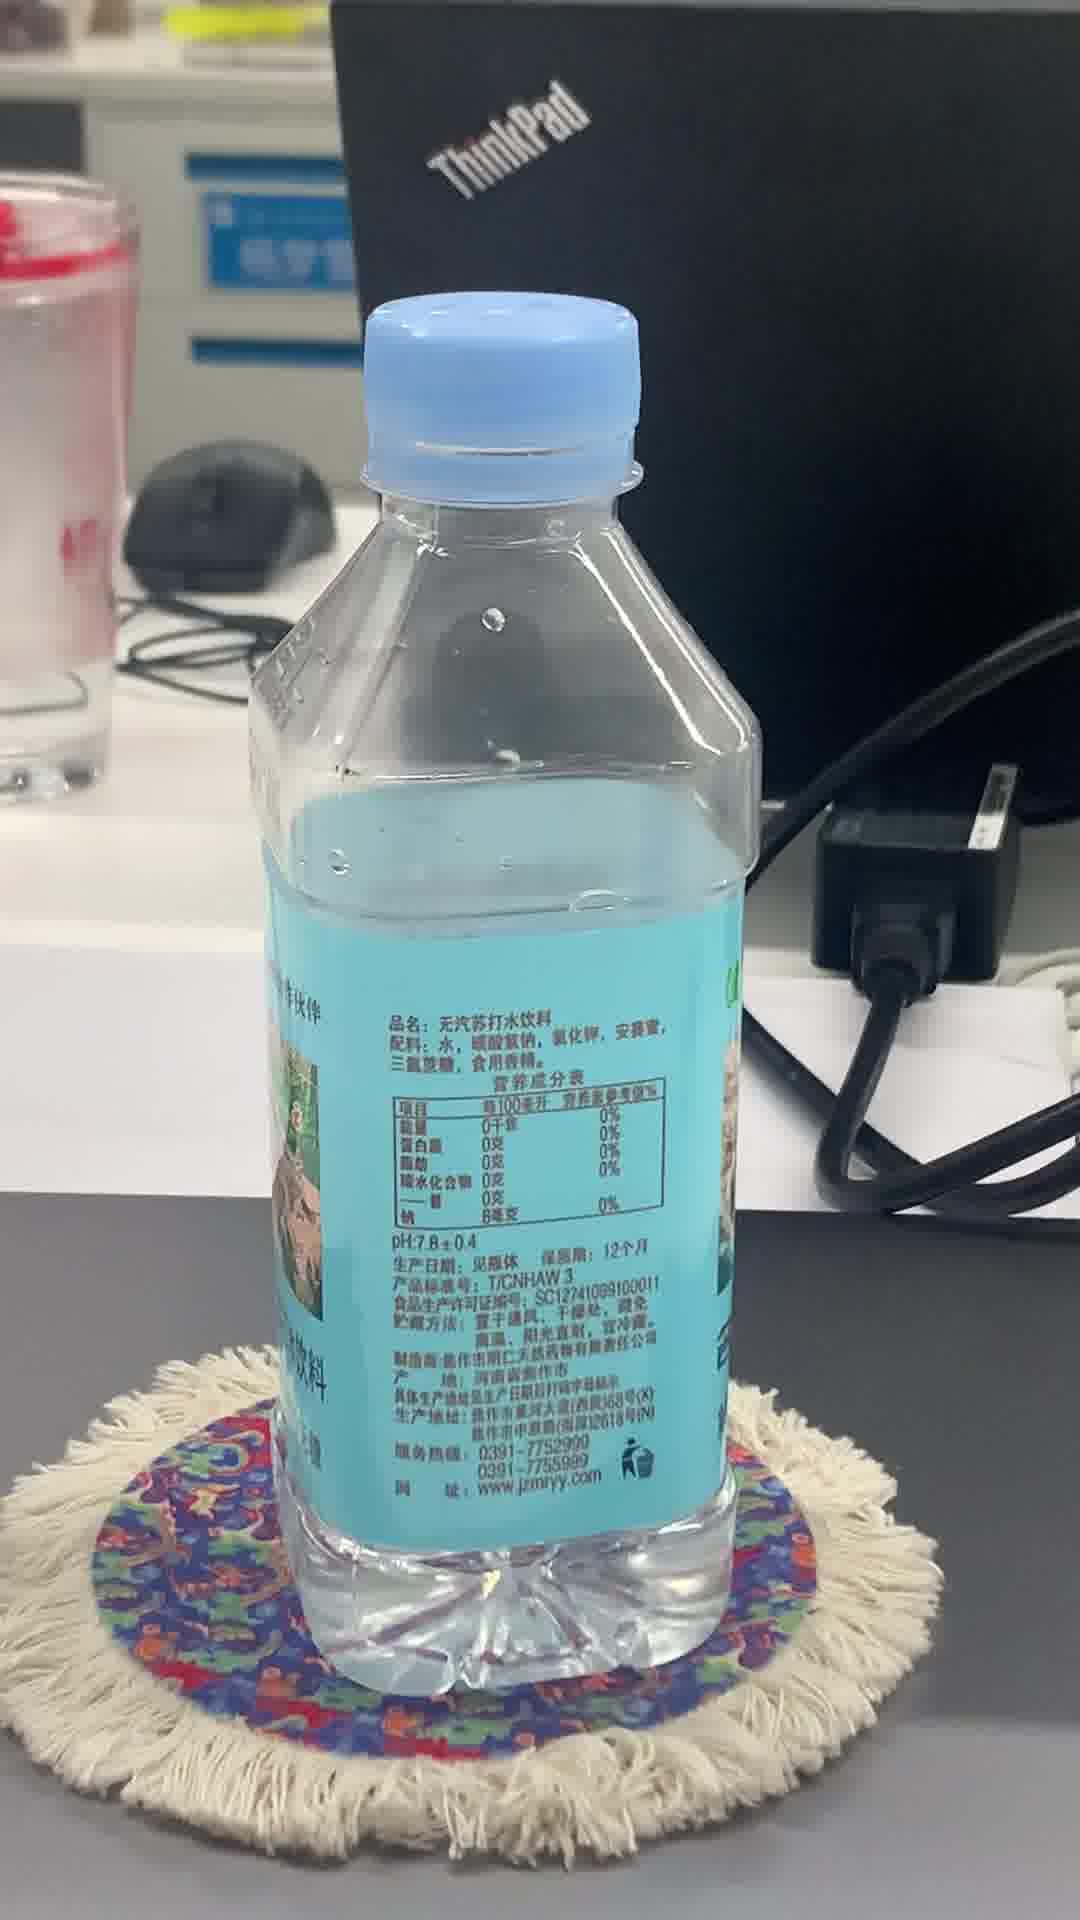水瓶: (237, 282, 758, 1688)
